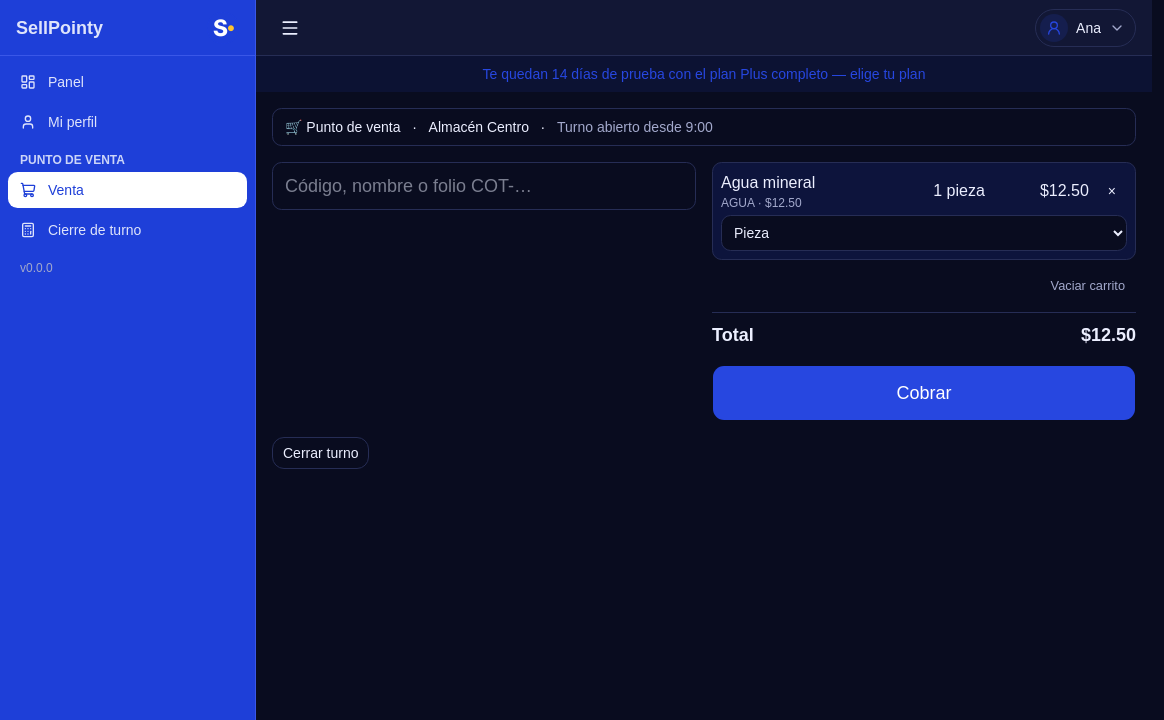
Test: El carrito del POS (F4-CART) › el numpad (F4-CART-03) › un botón cierra el teclado
The width and height of the screenshot is (1164, 720).
Expected: the field named "Buscar" is shown, left=272, top=162, right=696, bottom=210
Click the text "Agua mineral" at x=768, y=182, box left=721, top=174, right=815, bottom=191
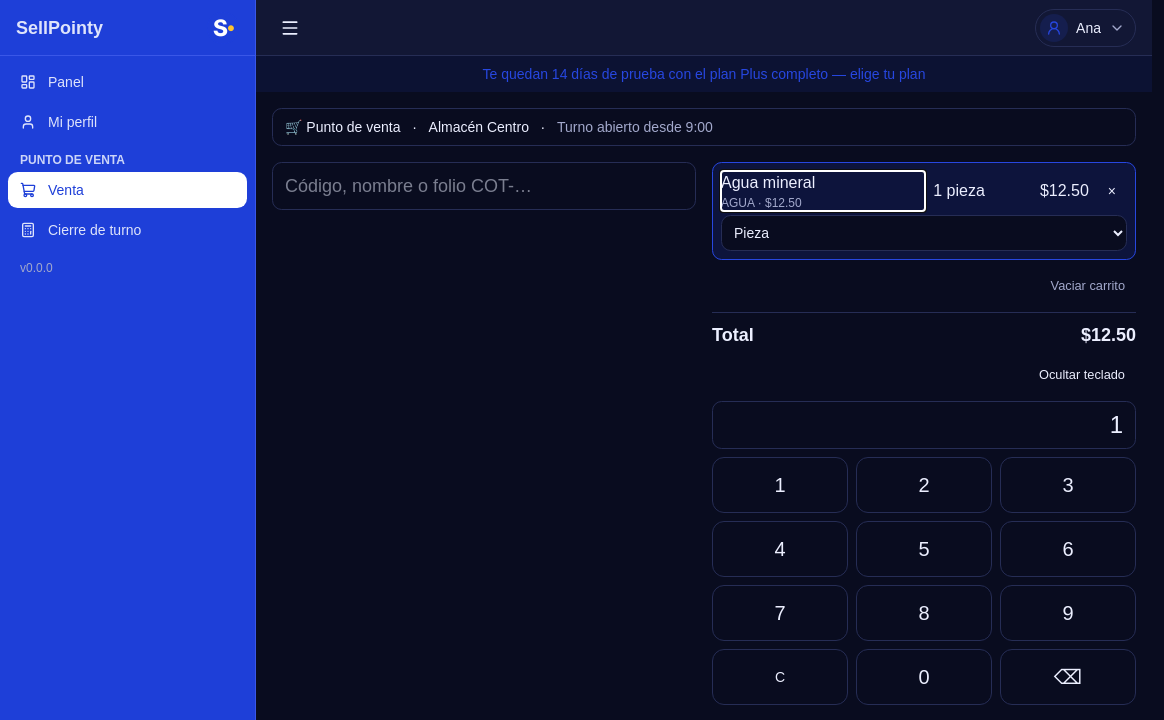
Expected: the element with test id "numpad" is shown, left=712, top=401, right=1136, bottom=705
Click the button "Ocultar teclado" at x=1082, y=375, box left=1028, top=361, right=1136, bottom=389
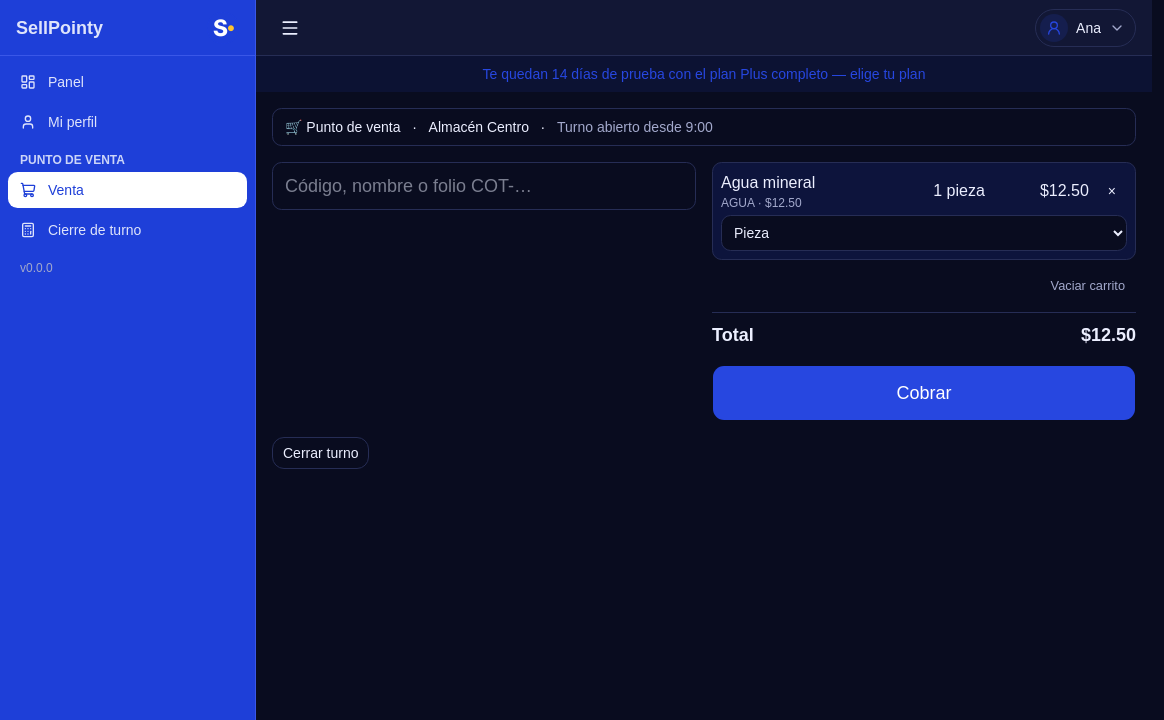
Expected: the element with test id "numpad" is gone
